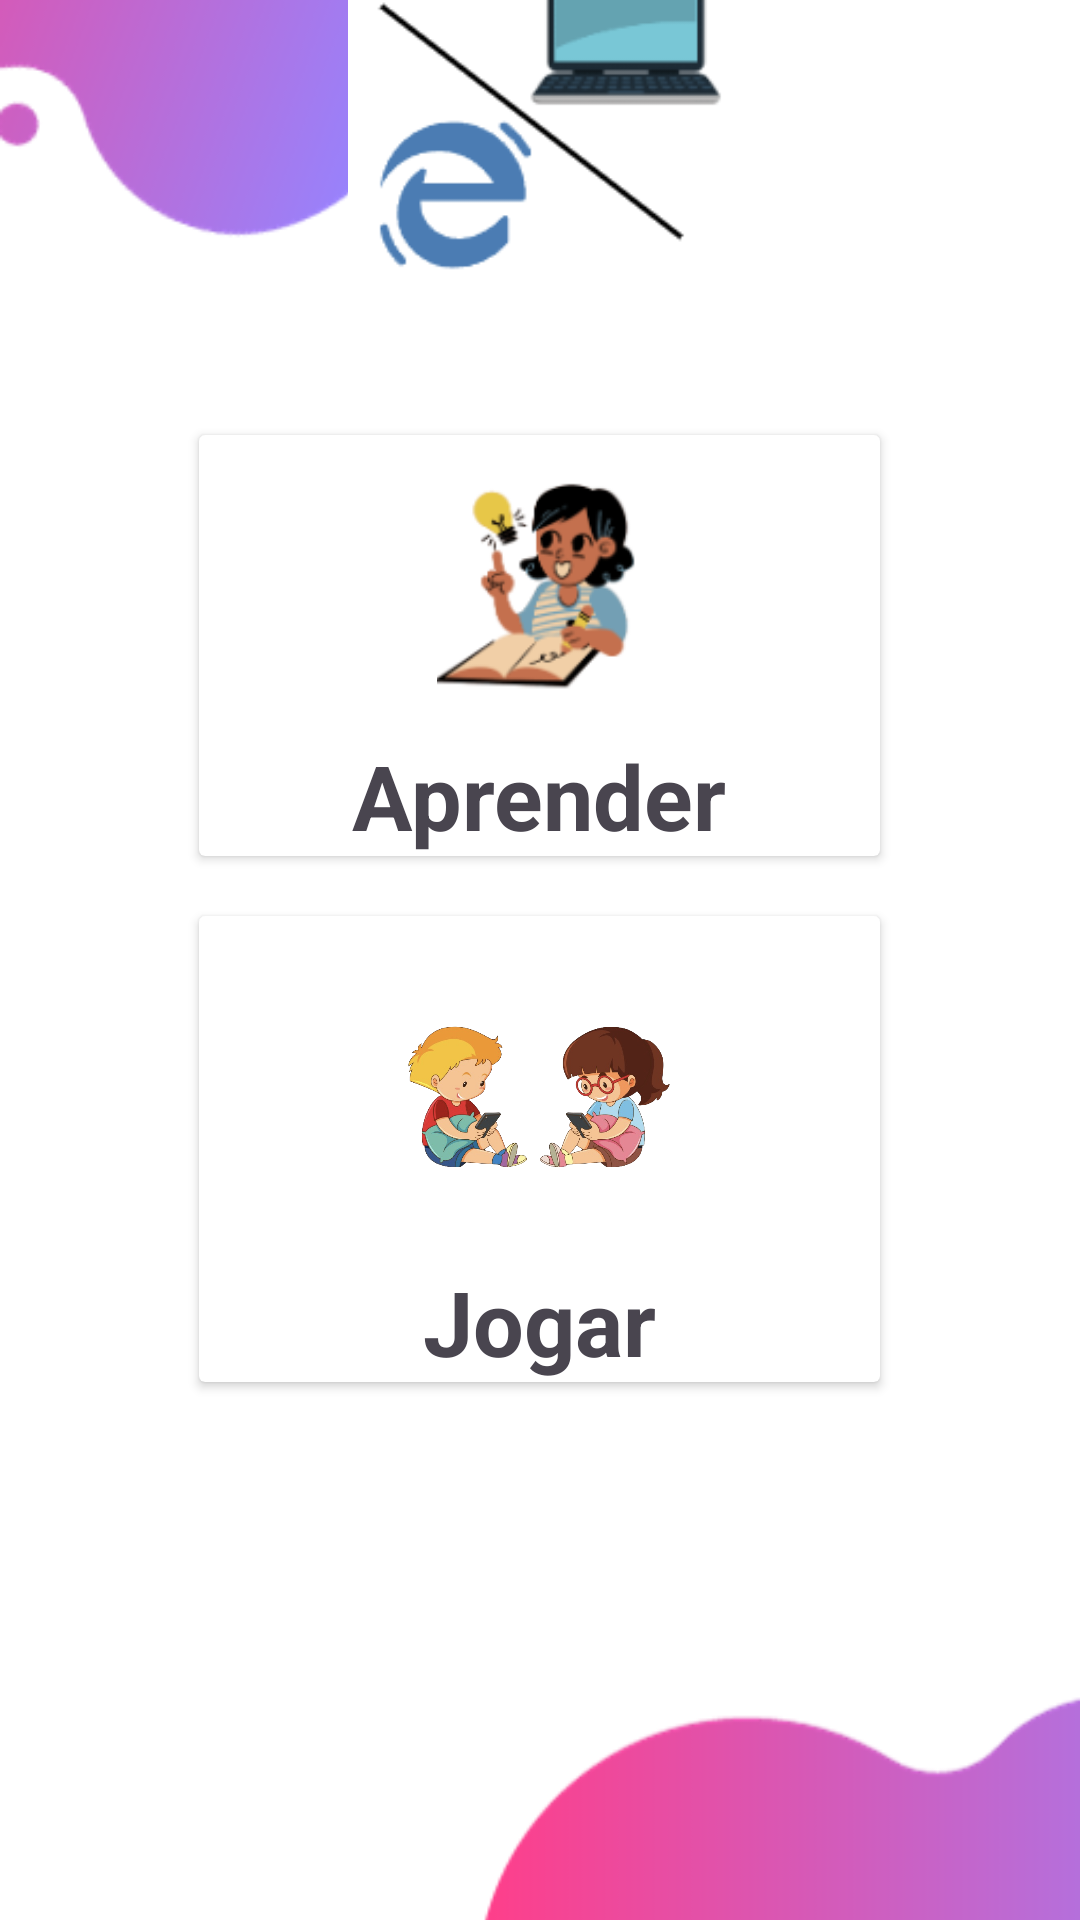

Icon bounding boxes for this 1080px x 1920px phone screenshot, format (x1, y1, x2, y2):
criancas: (408, 1026, 670, 1167)
